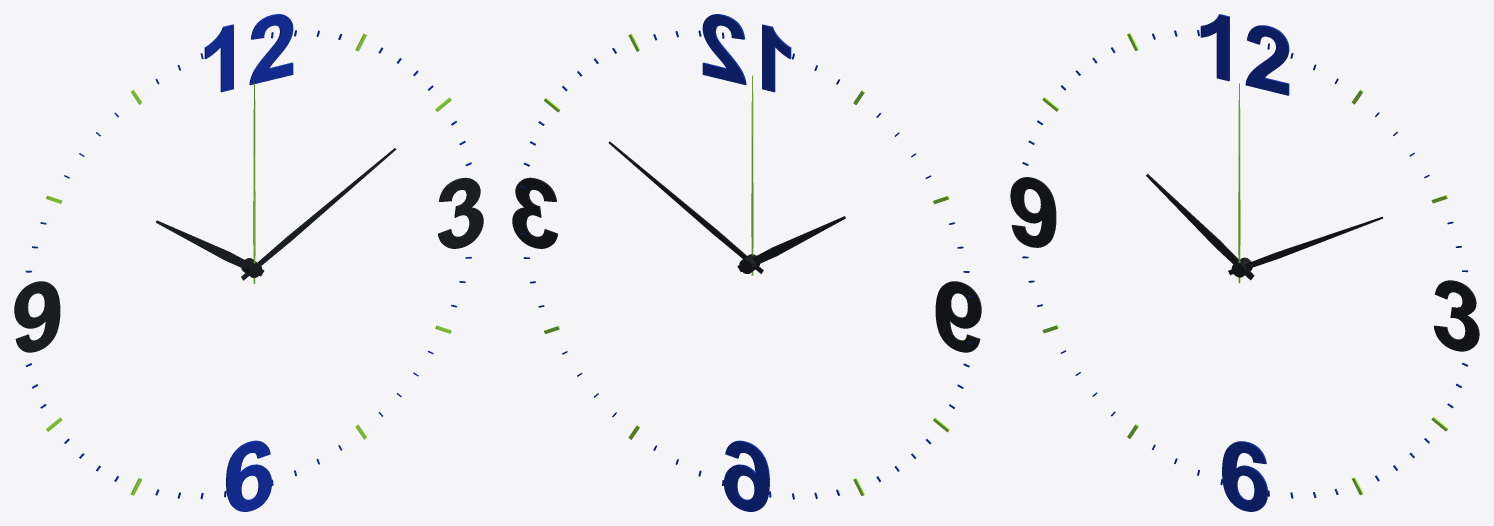
File: wallClock-6.glb
3 renders of one model, left to right at view 1: azimuth 30°, elevation 25°; view 2: azimuth 150°, elevation 25°; view 3: azimuth 330°, elevation 25°, orthographic.
Visible parts, largest first — view 1: Clock_EDS_blue, Clock_graphite, Clock_minute_hand_blade, Clock_hour_hand_blade, Clock_EDS_lime; view 2: Clock_EDS_blue, Clock_graphite, Clock_minute_hand_blade, Clock_hour_hand_blade, Clock_EDS_lime; view 3: Clock_EDS_blue, Clock_graphite, Clock_hour_hand_blade, Clock_minute_hand_blade, Clock_EDS_lime.
Boxes of the visible parts, left/top/right/bottom form: Clock_EDS_blue: left=25, top=14, right=471, bottom=511; Clock_graphite: left=14, top=177, right=483, bottom=352; Clock_minute_hand_blade: left=241, top=148, right=396, bottom=280; Clock_hour_hand_blade: left=156, top=220, right=264, bottom=276; Clock_EDS_lime: left=46, top=33, right=451, bottom=495; Clock_EDS_blue: left=520, top=14, right=972, bottom=511; Clock_graphite: left=512, top=177, right=981, bottom=352; Clock_minute_hand_blade: left=608, top=141, right=763, bottom=273; Clock_hour_hand_blade: left=737, top=216, right=845, bottom=271; Clock_EDS_lime: left=544, top=34, right=949, bottom=495; Clock_EDS_blue: left=1022, top=14, right=1468, bottom=511; Clock_graphite: left=1010, top=177, right=1479, bottom=351; Clock_hour_hand_blade: left=1146, top=174, right=1254, bottom=280; Clock_minute_hand_blade: left=1228, top=216, right=1382, bottom=274; Clock_EDS_lime: left=1042, top=33, right=1447, bottom=495.
Size of the model in its own units: 1.25 by 1.25 by 0.035.
